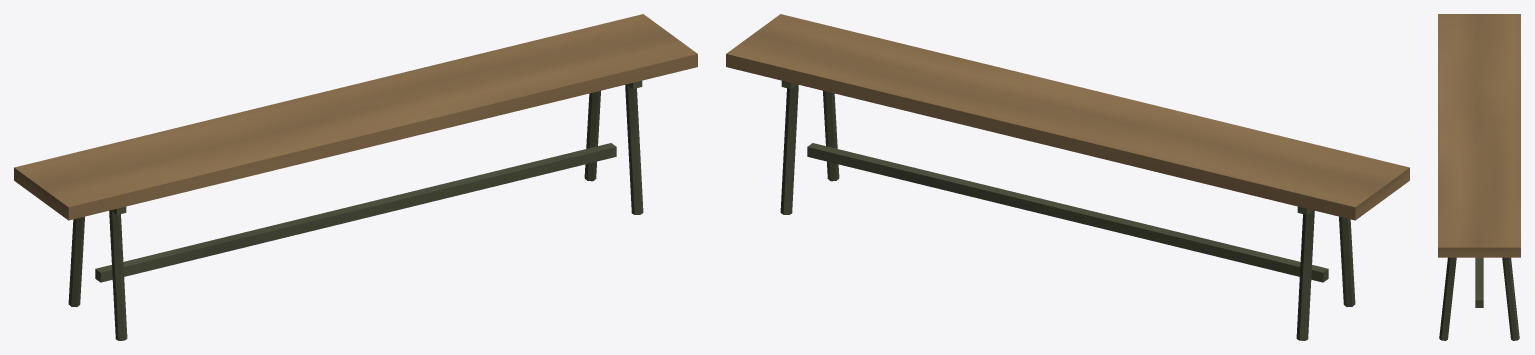
Rendered from mess_bench.glb.
3 views of the same model, side by side, from view 1: azimuth 30°, elevation 25°; view 2: azimuth 150°, elevation 25°; view 3: azimuth 270°, elevation 25° (orthographic). The views are drawn at different scales.
Parts seen in each view (by area): view 1: mess_bench; view 2: mess_bench; view 3: mess_bench.
Part boxes in pixels (x1,y1,x2,y2): mess_bench: [14, 14, 697, 340]; mess_bench: [726, 14, 1409, 340]; mess_bench: [1438, 14, 1520, 340].
Size of the model in its own units: 2 by 0.4516 by 0.3.
Materials: 1 (1 with a texture image).
